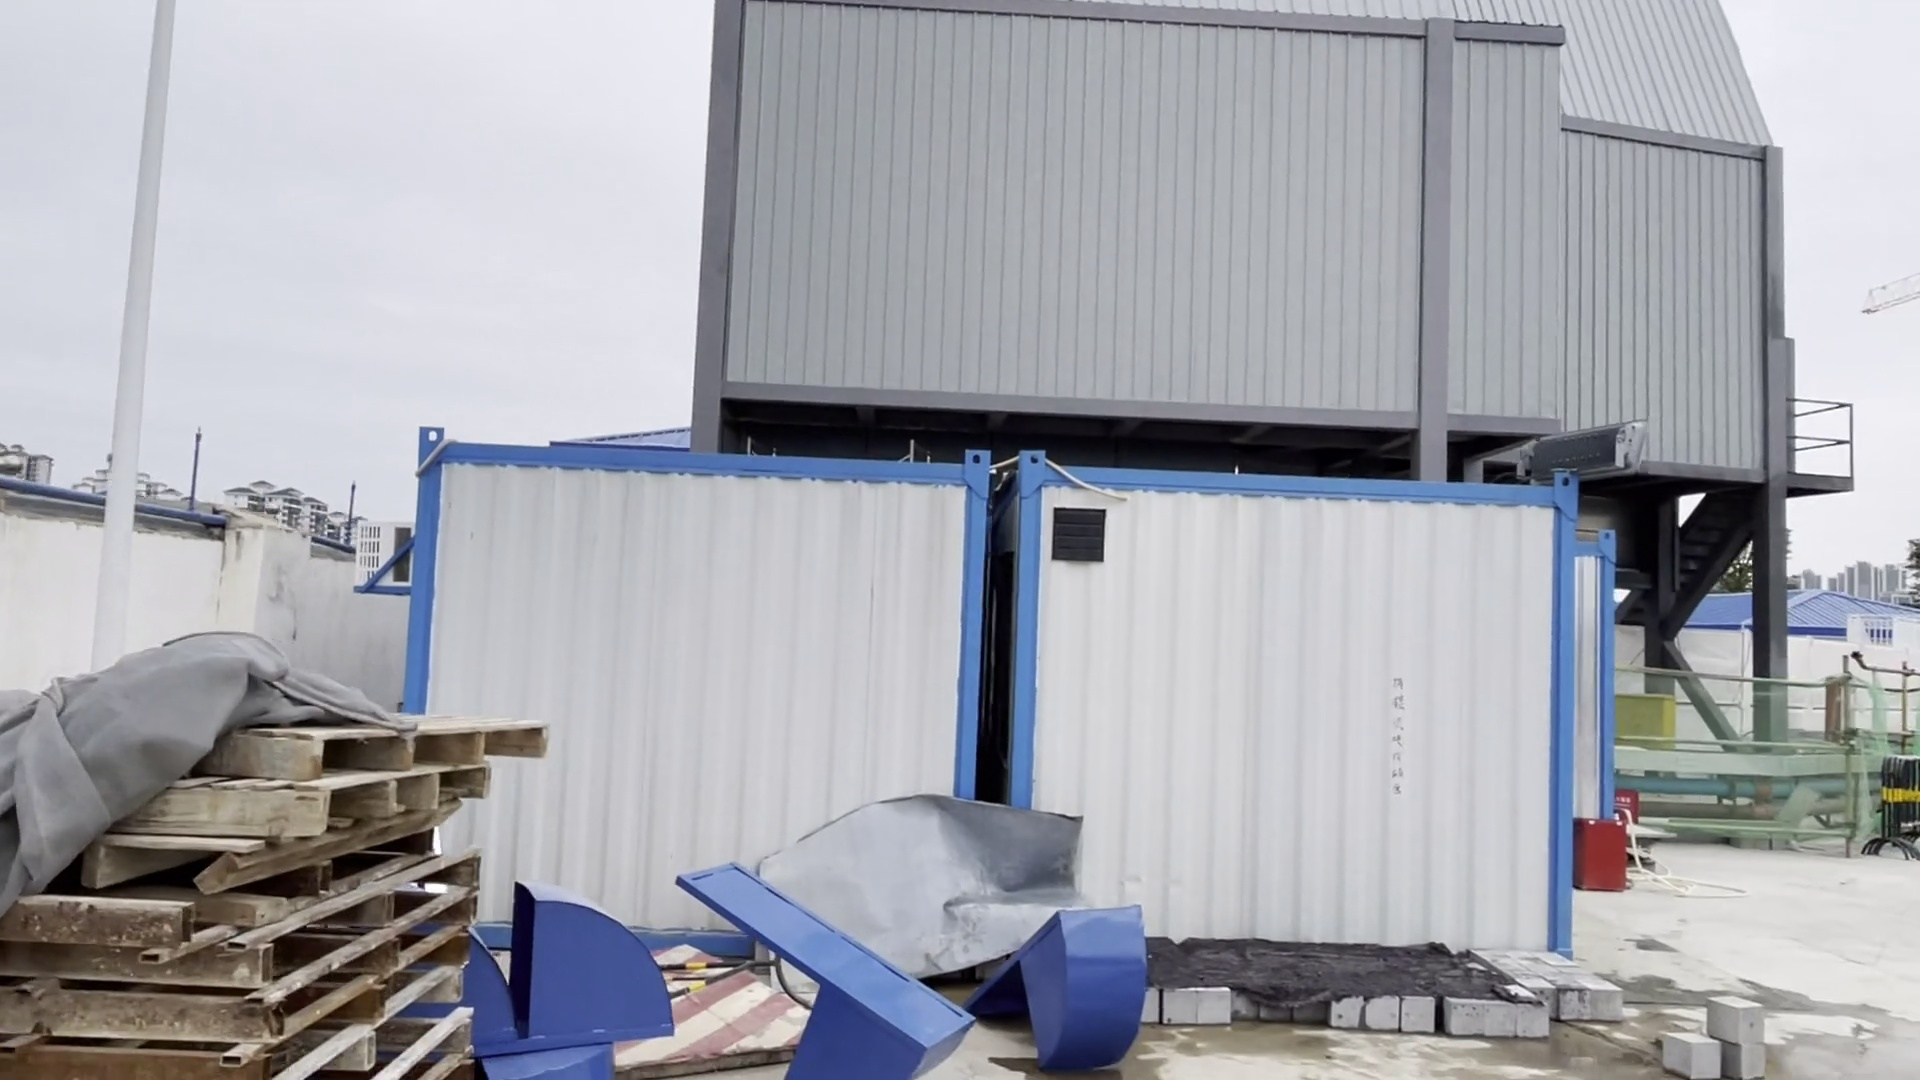ebox: (1615, 686, 1683, 753)
